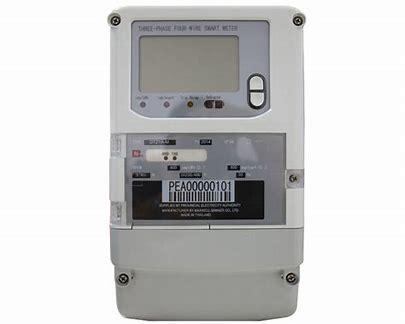digital: (109, 7, 304, 270)
